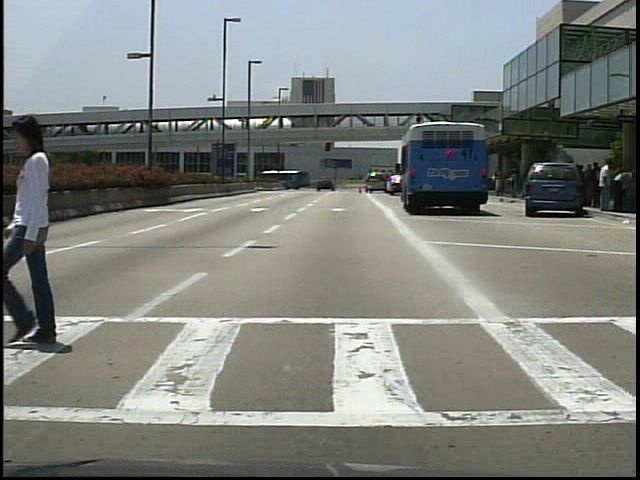person: (1, 116, 92, 356), (598, 159, 617, 212), (588, 161, 605, 213)
